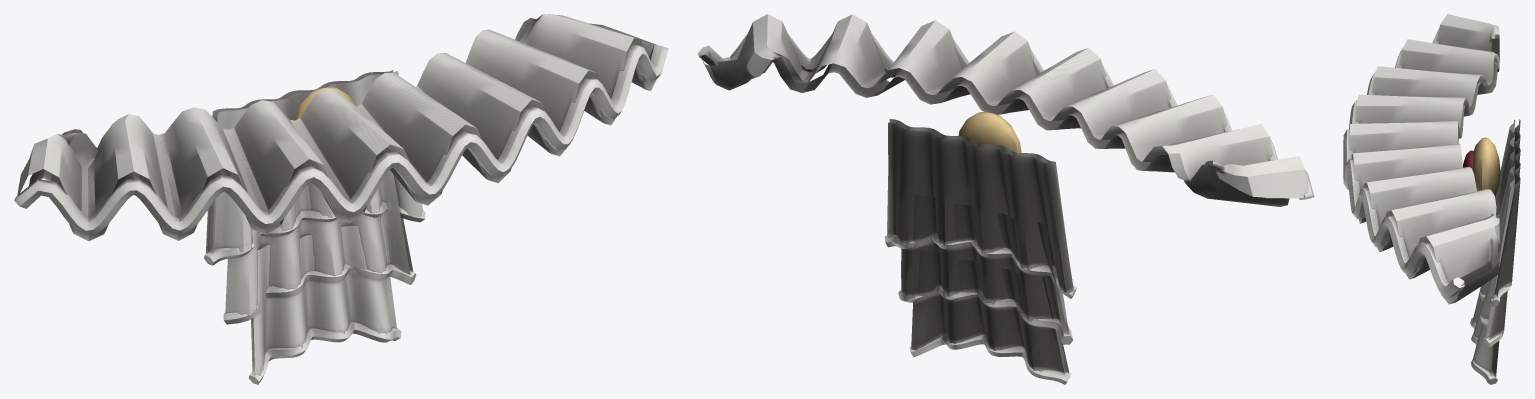
File: NHAcc_Ruff.fbx
The picture shows the model from 3 angles, left to right: view 1: azimuth 30°, elevation 25°; view 2: azimuth 150°, elevation 25°; view 3: azimuth 270°, elevation 25°; orthographic projection. The views are drawn at different scales.
Parts seen in each view (by area): view 1: Ruff; view 2: Ruff; view 3: Ruff.
Boxes of the visible parts, x1,y1,x2,y2 form: Ruff: (14, 14, 668, 384); Ruff: (697, 14, 1314, 384); Ruff: (1343, 14, 1520, 384).
Bounding box in the file's own units: 0.8784 × 0.3725 × 0.262.
